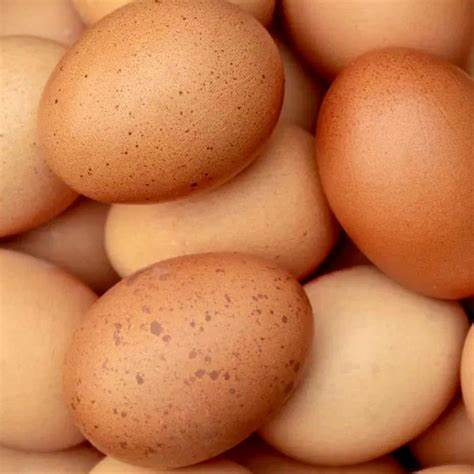Egg: (58, 243, 320, 474), (31, 0, 287, 210), (241, 260, 468, 470), (311, 42, 474, 308), (108, 114, 339, 291), (0, 236, 114, 455)
